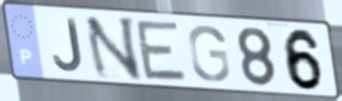6: (282, 27, 328, 93)
8: (235, 25, 278, 88)
E: (133, 18, 190, 84)
G: (186, 24, 232, 84)
J: (51, 16, 85, 74)
N: (81, 15, 144, 82)
